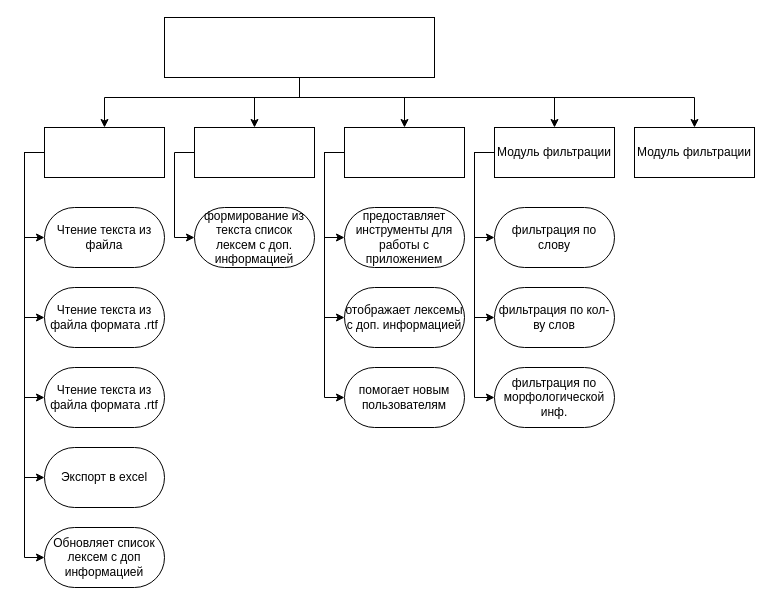
The diagram is 772 pixels wide and 605 high, and some of its shapes have lost their labels. The box of each missing label's shape, as (x1, y1, x2, y2) in pixels:
Модуль представления: (344, 126, 464, 178)
Модуль работы с файлами: (44, 126, 164, 178)
Модуль разбора текста: (194, 126, 314, 178)
Система формирования словаря: (164, 16, 434, 78)
